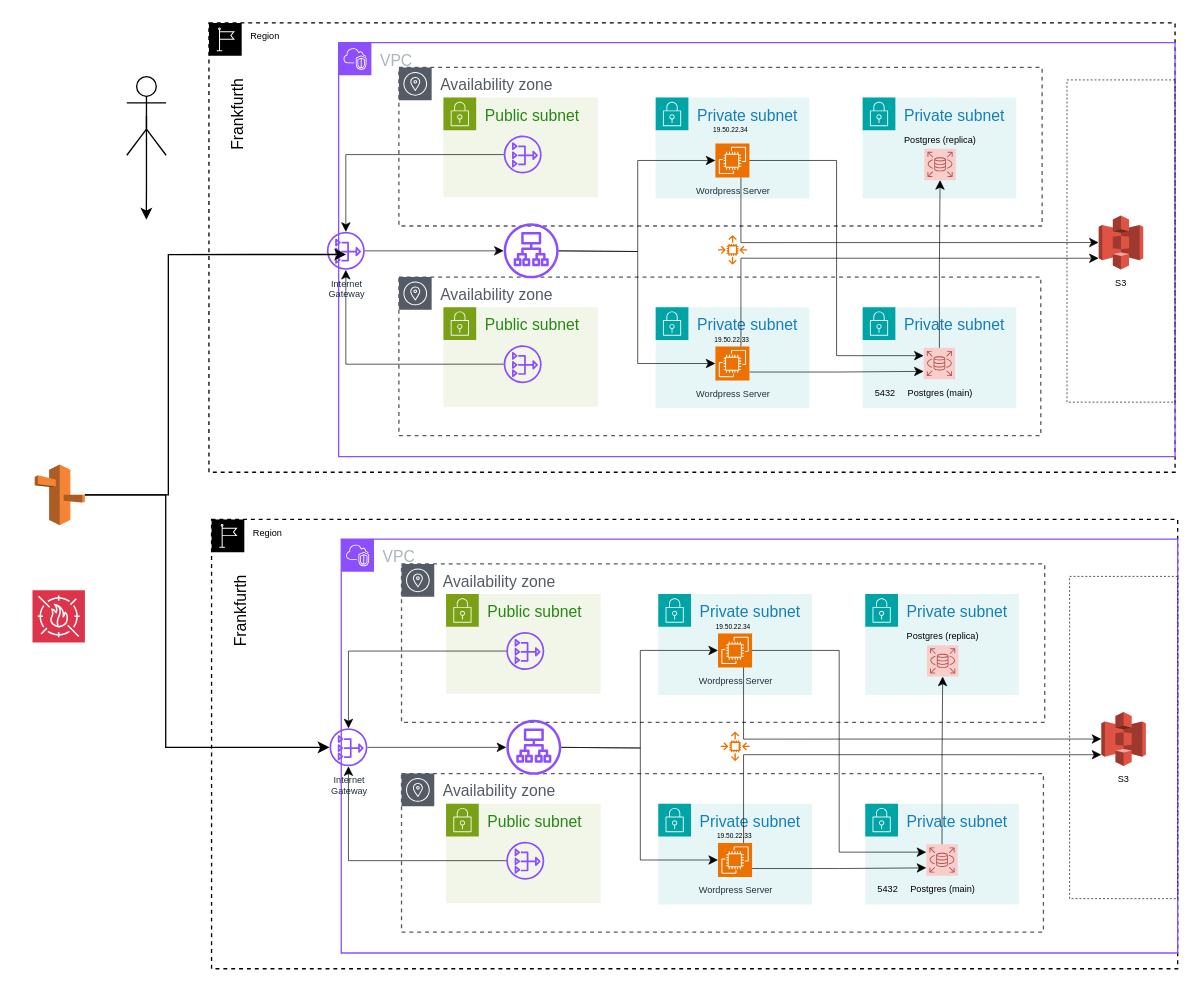
Some shapes in this 1201 by 992 pixel diagram are drawn without their labels. The shapes that lost their labels are listed below. From the top down, each one's box as (x1, y1, x2, y2) in pixels, then its label:
(125, 75, 166, 155): Actor
(33, 463, 85, 525): Route 53 DNS Management
